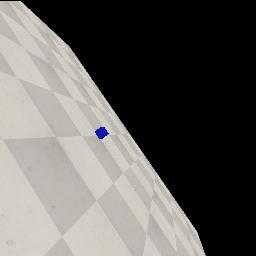box: (95, 127, 109, 139)
